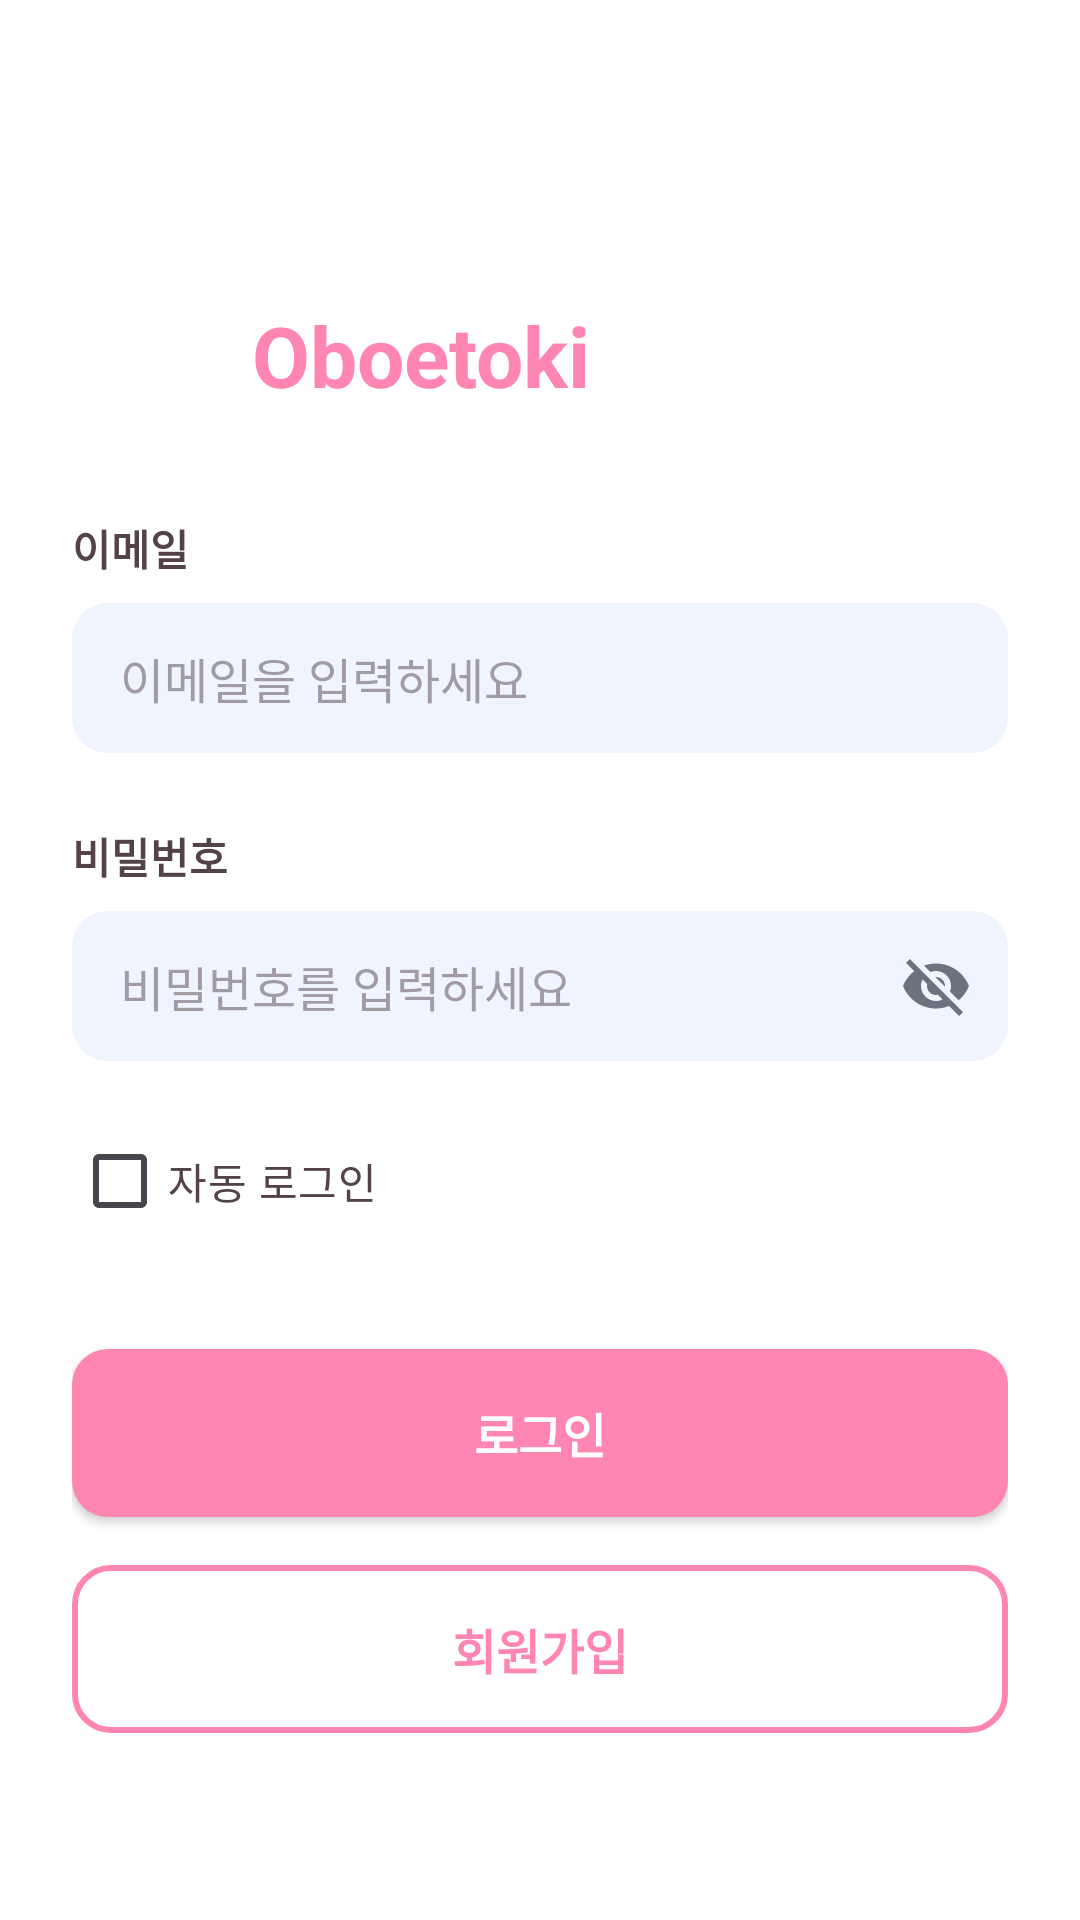

Icons on this 1080x1920 Android screen, each with the point to tap as point (x, y):
eye off: point (936, 987)
